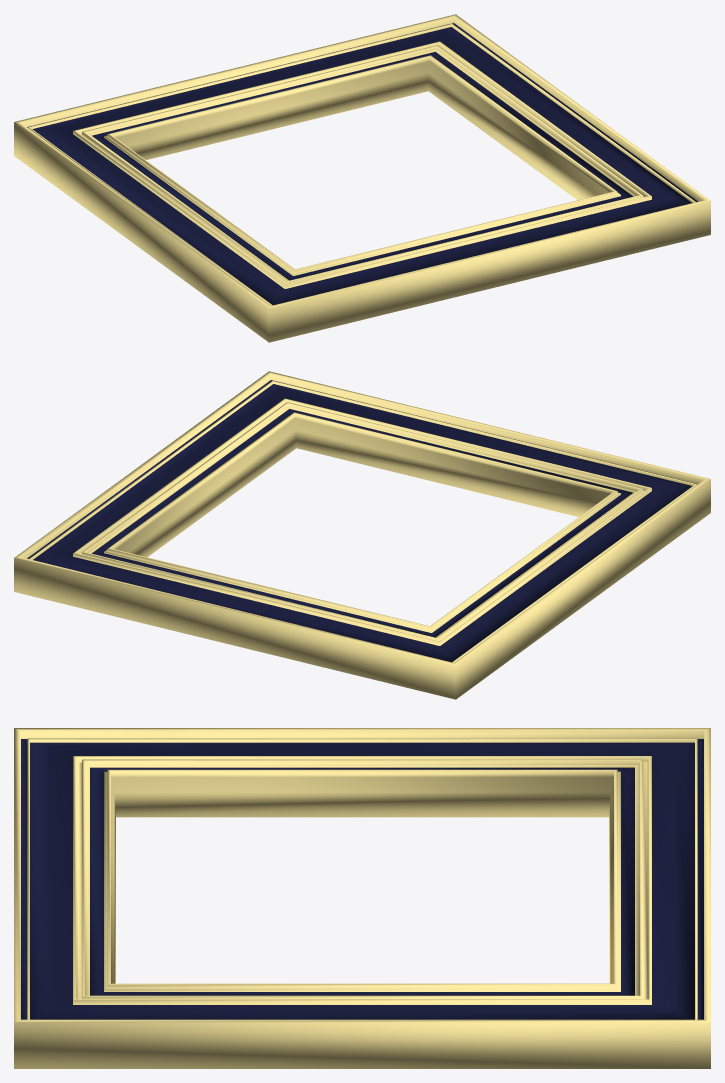
Rendered from pic_frame2.fbx.
3 renders of one model, top to bottom at view 1: azimuth 30°, elevation 25°; view 2: azimuth 150°, elevation 25°; view 3: azimuth 270°, elevation 25°, orthographic. The views are drawn at different scales.
Parts seen in each view (by area): view 1: ベジエ円; view 2: ベジエ円; view 3: ベジエ円.
Part boxes in pixels (x1,y1,x2,y2): ベジエ円: (14,14,710,342); ベジエ円: (14,371,710,699); ベジエ円: (14,728,710,1068).
Bounding box in the file's own units: 187 × 13.73 × 187.
